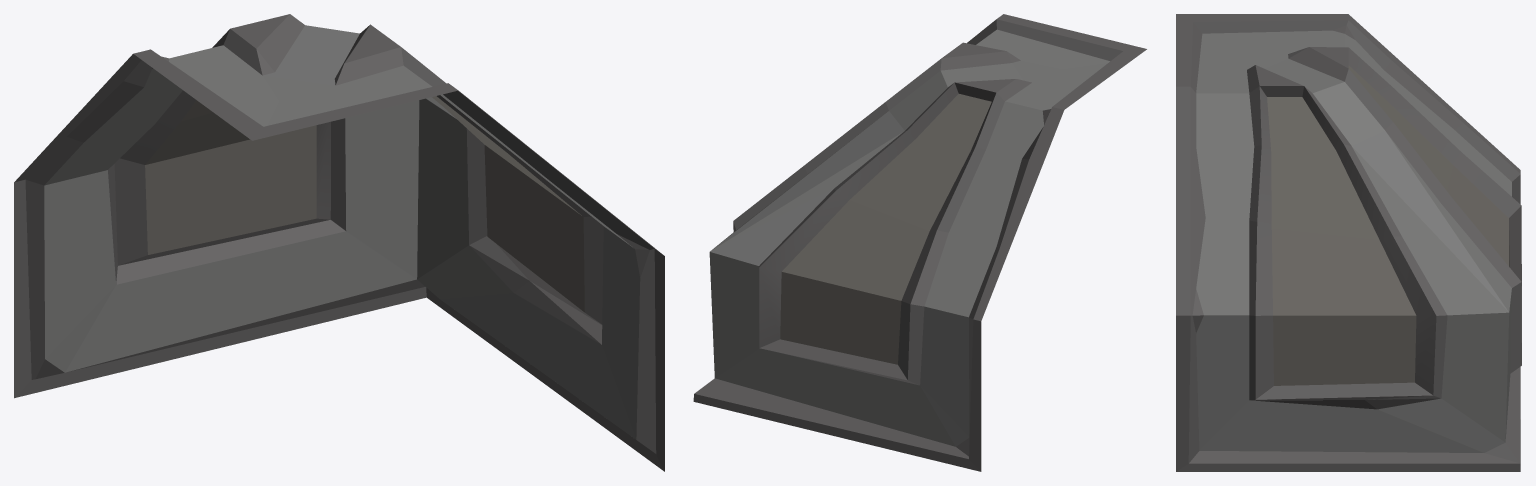
Rendered from SM_Env_Ceiling_Stone_Curved_Corner_01.FBX.
The picture shows the model from 3 angles, left to right: view 1: azimuth 30°, elevation 25°; view 2: azimuth 150°, elevation 25°; view 3: azimuth 270°, elevation 25°; orthographic projection. The views are drawn at different scales.
Visible parts, largest first — view 1: SM_Env_Ceiling_Stone_Curved_Corner_01; view 2: SM_Env_Ceiling_Stone_Curved_Corner_01; view 3: SM_Env_Ceiling_Stone_Curved_Corner_01.
Boxes of the visible parts, x1,y1,x2,y2 form: SM_Env_Ceiling_Stone_Curved_Corner_01: (14,14,664,471); SM_Env_Ceiling_Stone_Curved_Corner_01: (693,14,1146,471); SM_Env_Ceiling_Stone_Curved_Corner_01: (1176,14,1521,471).
Size of what is drawn, in the model's own units: 502 by 502 by 502.
